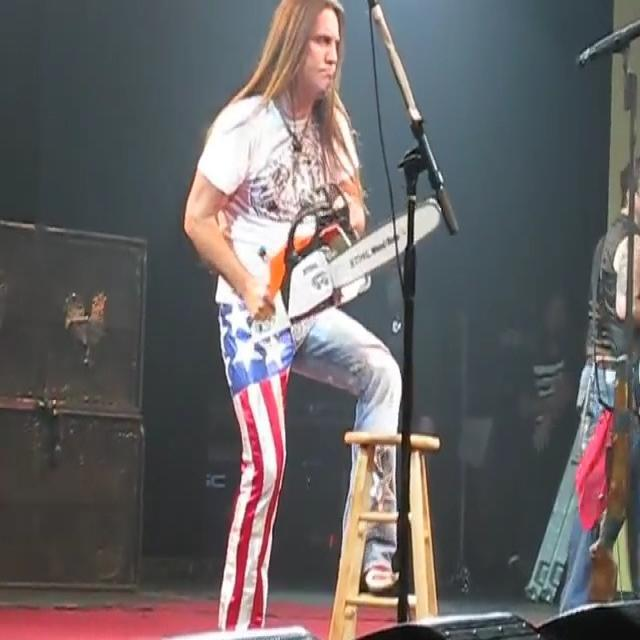Chainsaw: (249, 175, 458, 352)
